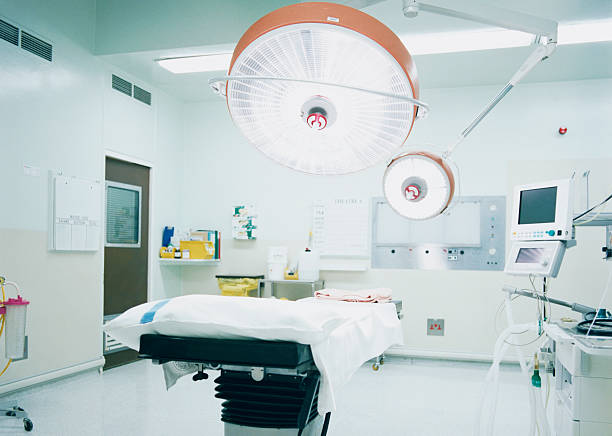bedside_monitor: (513, 179, 568, 235), (509, 241, 558, 270)
countertop: (160, 253, 227, 264)
operating_bed: (105, 282, 403, 434)
surgical_light: (216, 1, 424, 180), (378, 149, 456, 224)
table: (256, 275, 324, 297)
